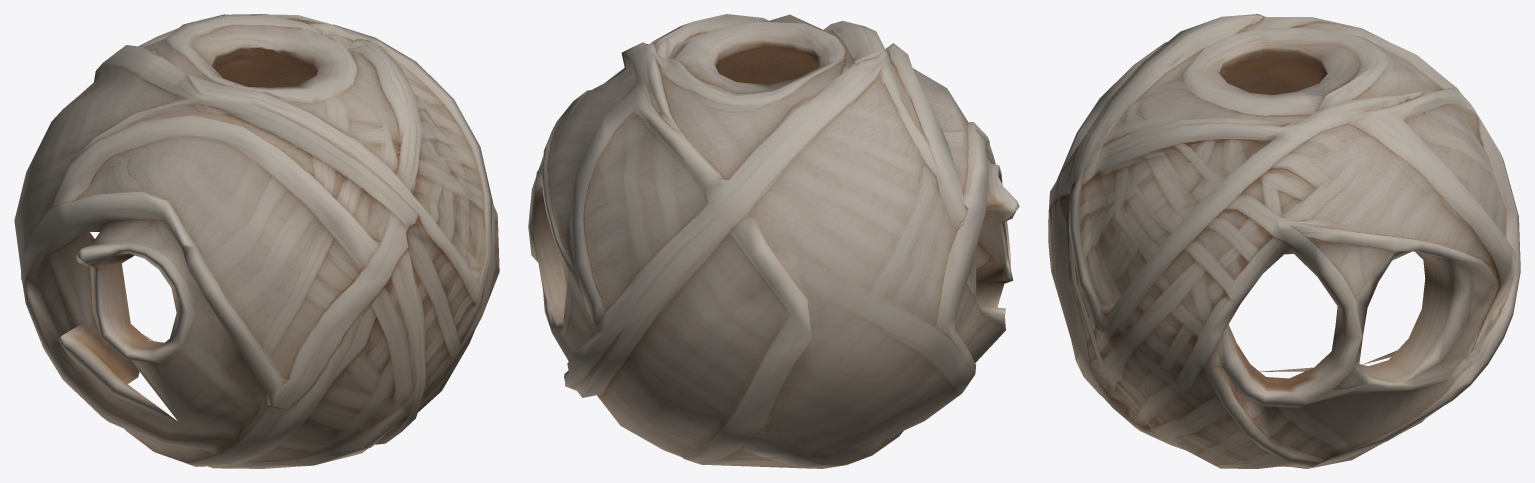
File: ball_yarn.glb
The picture shows the model from 3 angles, left to right: view 1: azimuth 30°, elevation 25°; view 2: azimuth 150°, elevation 25°; view 3: azimuth 270°, elevation 25°; orthographic projection. The views are drawn at different scales.
Visible parts, largest first — view 1: tripo_node_396668fb-0d4c-4090-aca9-4f790c26391c; view 2: tripo_node_396668fb-0d4c-4090-aca9-4f790c26391c; view 3: tripo_node_396668fb-0d4c-4090-aca9-4f790c26391c.
Part boxes in pixels (x1,y1,x2,y2): tripo_node_396668fb-0d4c-4090-aca9-4f790c26391c: [14, 14, 499, 468]; tripo_node_396668fb-0d4c-4090-aca9-4f790c26391c: [528, 14, 1019, 468]; tripo_node_396668fb-0d4c-4090-aca9-4f790c26391c: [1048, 14, 1520, 468].
Size of the model in its own units: 0.9995 by 0.8662 by 0.9849.
Materials: 1 (1 with a texture image).
